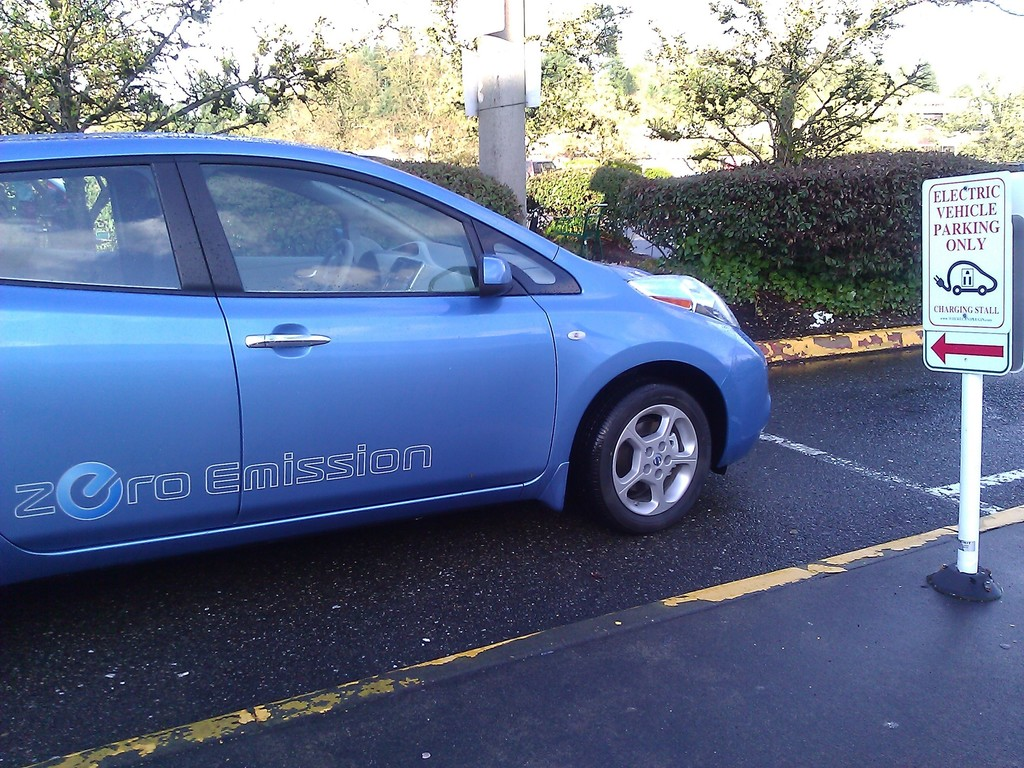Tree: (0, 0, 1024, 251)
